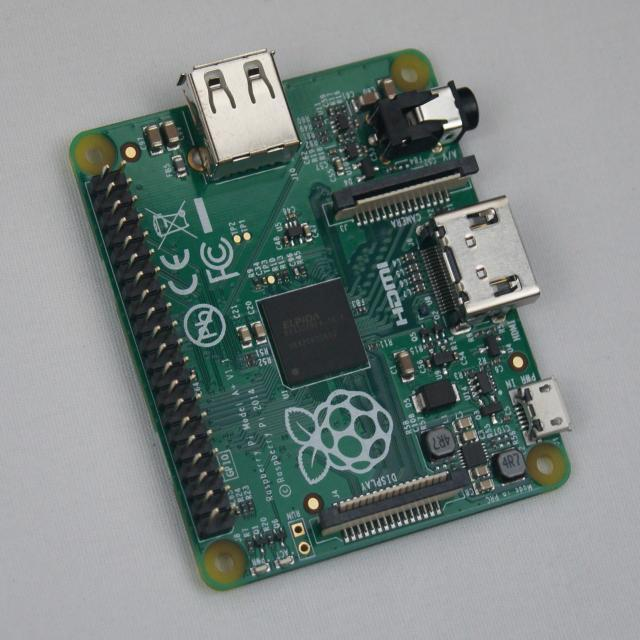Raspberry-Pi-1-A-: (71, 50, 569, 590)
